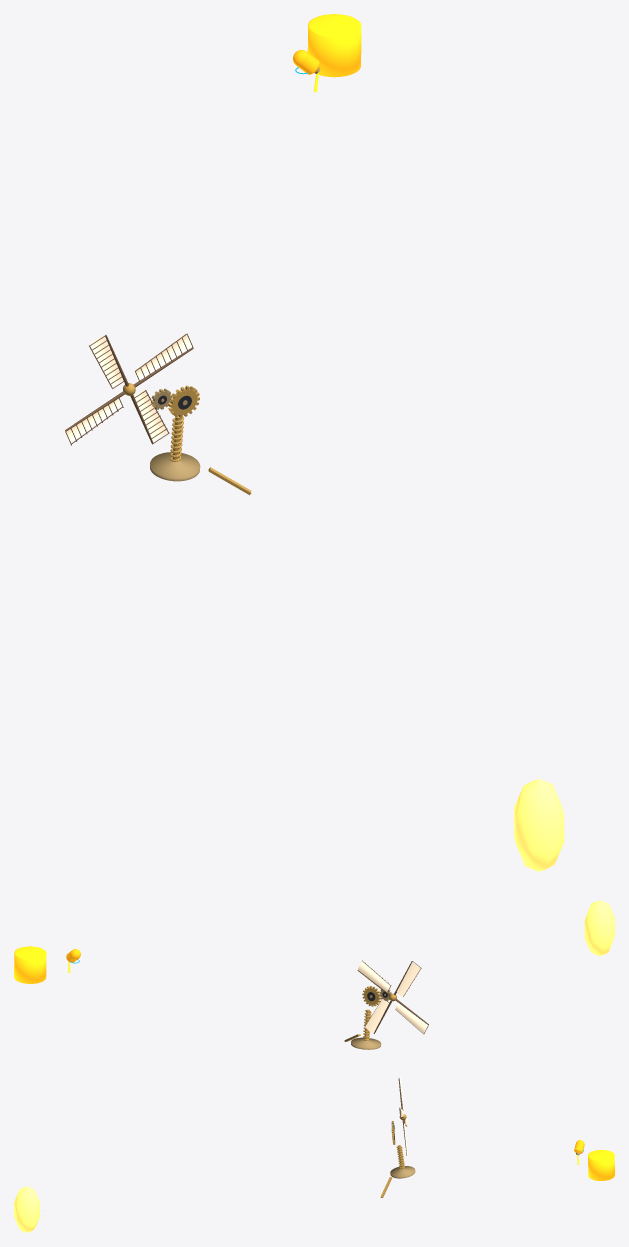
Rendered from actors.glb.
3 views of the same model, one above another, from view 1: azimuth 30°, elevation 25°; view 2: azimuth 150°, elevation 25°; view 3: azimuth 270°, elevation 25° (orthographic). The views are drawn at different scales.
Parts seen in each view (by area): view 1: grainfly_0, column_0, sails_1, sails_2, screw_0; view 2: grainfly_0, sails_1, column_0, sails_2, screw_0, gear_big_2; view 3: grainfly_0, column_0, screw_0.
Part boxes in pixels (box(x1,y1,x2,y2)): grainfly_0: box(514, 779, 564, 871); column_0: box(307, 14, 361, 77); sails_1: box(65, 334, 191, 443); sails_2: box(65, 333, 193, 445); screw_0: box(150, 452, 200, 481); grainfly_0: box(584, 900, 614, 956); sails_1: box(358, 961, 427, 1033); column_0: box(14, 946, 46, 983); sails_2: box(357, 960, 428, 1034); screw_0: box(351, 1037, 381, 1049); gear_big_2: box(362, 986, 381, 1006); grainfly_0: box(14, 1186, 39, 1232); column_0: box(588, 1150, 614, 1180); screw_0: box(390, 1166, 415, 1178).
Size of the model in its own units: 16.47 by 10.93 by 35.09.
